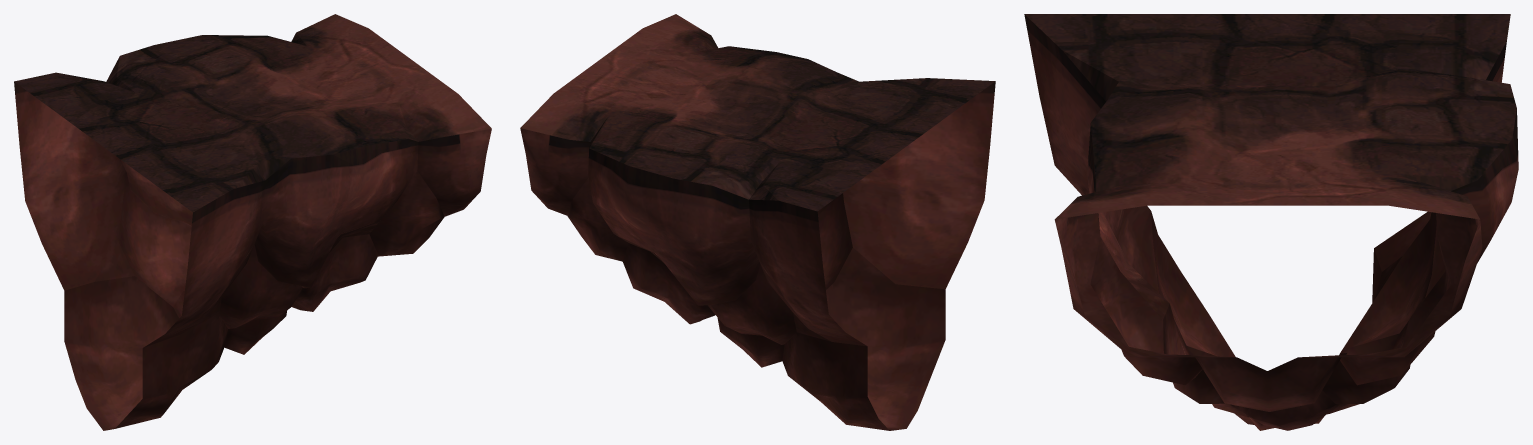
The model's file is lava_bridge_transition_01.fbx.
3 views of the same model, side by side, from view 1: azimuth 30°, elevation 25°; view 2: azimuth 150°, elevation 25°; view 3: azimuth 270°, elevation 25° (orthographic). The views are drawn at different scales.
Visible parts, largest first — view 1: lava_tileset/bridge_mat_shadow; view 2: lava_tileset/bridge_mat_shadow; view 3: lava_tileset/bridge_mat_shadow.
Part boxes in pixels (bbox=[...]): lava_tileset/bridge_mat_shadow: bbox=[14, 14, 491, 430]; lava_tileset/bridge_mat_shadow: bbox=[520, 14, 995, 430]; lava_tileset/bridge_mat_shadow: bbox=[1024, 14, 1518, 430].
Size of the model in its own units: 4 by 3.65 by 4.07.
